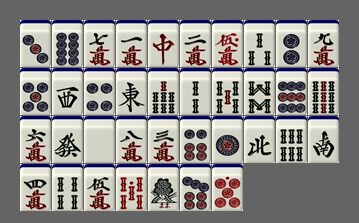0m: (212, 20, 243, 67)
0p: (212, 164, 243, 211)
0s: (116, 164, 147, 211)
1m: (116, 20, 147, 67)
1p: (212, 116, 243, 163)
1s: (148, 164, 179, 211)
1z: (116, 68, 147, 115)
2m: (180, 20, 211, 67)
2p: (276, 20, 307, 67)
2s: (180, 68, 211, 115)
2z: (308, 116, 339, 163)
3m: (148, 116, 179, 163)
3p: (20, 20, 51, 67)
3s: (244, 20, 275, 67)
3z: (52, 68, 83, 115)
4m: (20, 164, 51, 211)
4p: (84, 68, 115, 115)
4s: (52, 164, 83, 211)
4z: (244, 116, 275, 163)
5m: (84, 164, 115, 211)
5p: (20, 68, 51, 115)
5s: (212, 68, 243, 115)
5z: (84, 116, 115, 163)
6m: (20, 116, 51, 163)
6p: (180, 116, 211, 163)
6s: (276, 116, 307, 163)
6z: (52, 116, 83, 163)
7m: (84, 20, 115, 67)
7p: (180, 164, 211, 211)
7s: (148, 68, 179, 115)
7z: (148, 20, 179, 67)
8m: (116, 116, 147, 163)
8p: (52, 20, 83, 67)
8s: (244, 68, 275, 115)
9m: (308, 20, 339, 67)
9p: (276, 68, 307, 115)
9s: (308, 68, 339, 115)
